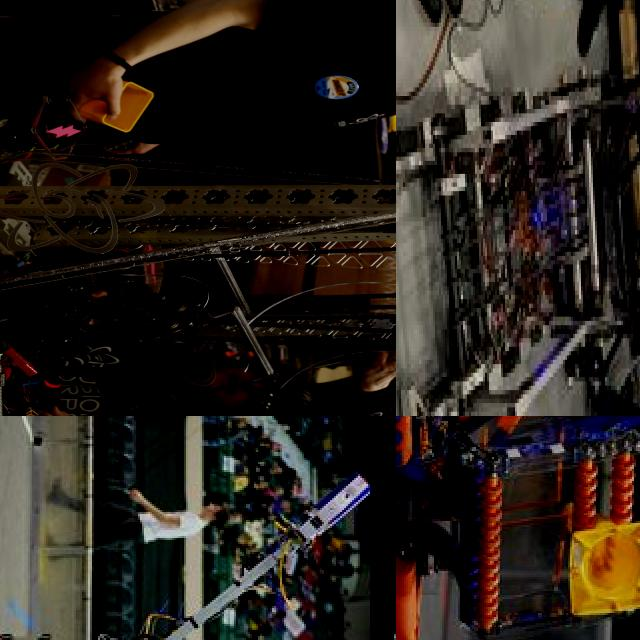FRC-Robots: (0, 68, 396, 416), (396, 1, 640, 416), (0, 416, 365, 640), (396, 416, 640, 640)
